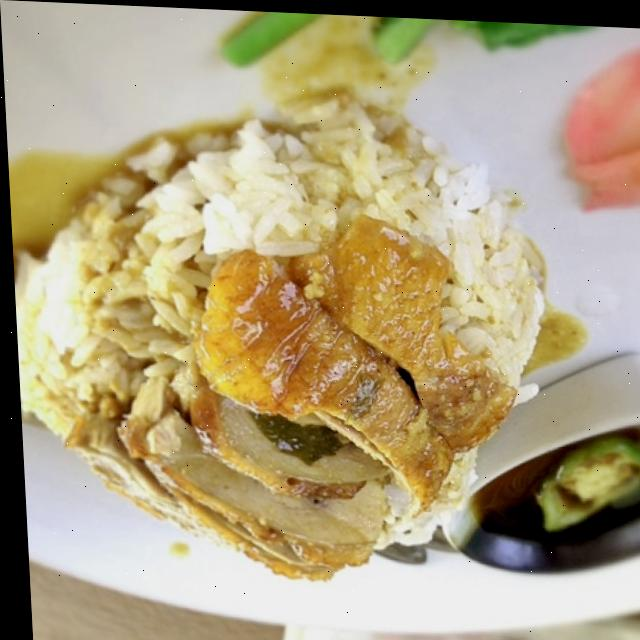米饭主食: (5, 114, 542, 608)
